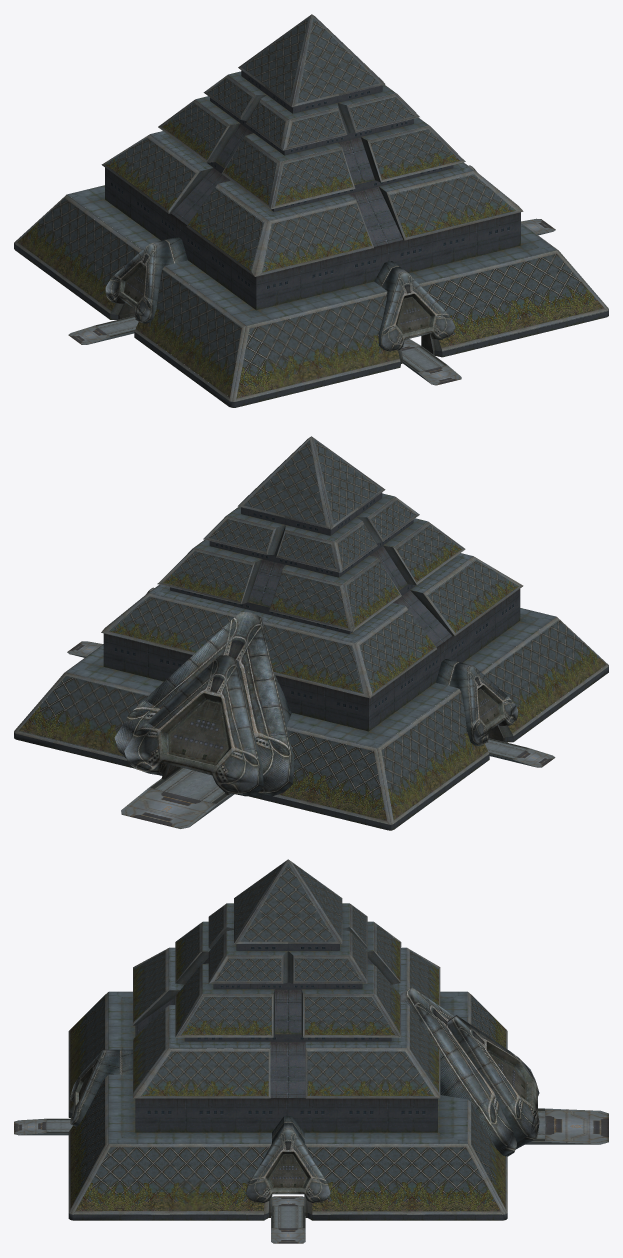
Rendered from Building_JzWaike_2048_lod2.glb.
The picture shows the model from 3 angles, top to bottom: view 1: azimuth 30°, elevation 25°; view 2: azimuth 150°, elevation 25°; view 3: azimuth 270°, elevation 25°; orthographic projection.
Visible parts, largest first — view 1: saibt_jz_waike_lod2; view 2: saibt_jz_waike_lod2; view 3: saibt_jz_waike_lod2.
Part boxes in pixels (box(x1,y1,x2,y2)): saibt_jz_waike_lod2: box(14, 14, 608, 407); saibt_jz_waike_lod2: box(14, 436, 608, 830); saibt_jz_waike_lod2: box(14, 859, 608, 1243).
Size of the model in its own units: 153 by 83.55 by 166.
1 material, 1 textured.
